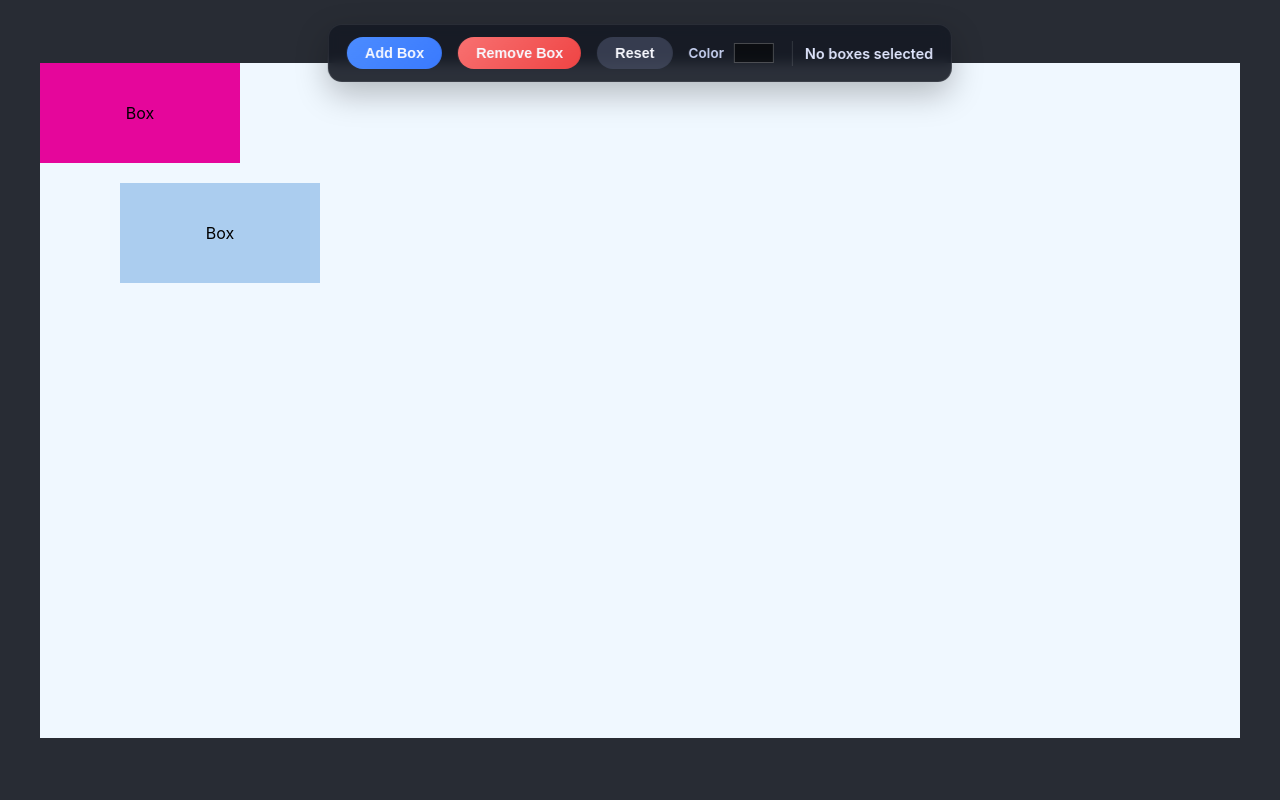
Test: App › should reset the canvas when clicking the reset button then the canvas have default box
Click the 1st button "Box" at (140, 112), box x1=40 y1=62 x2=240 y2=162
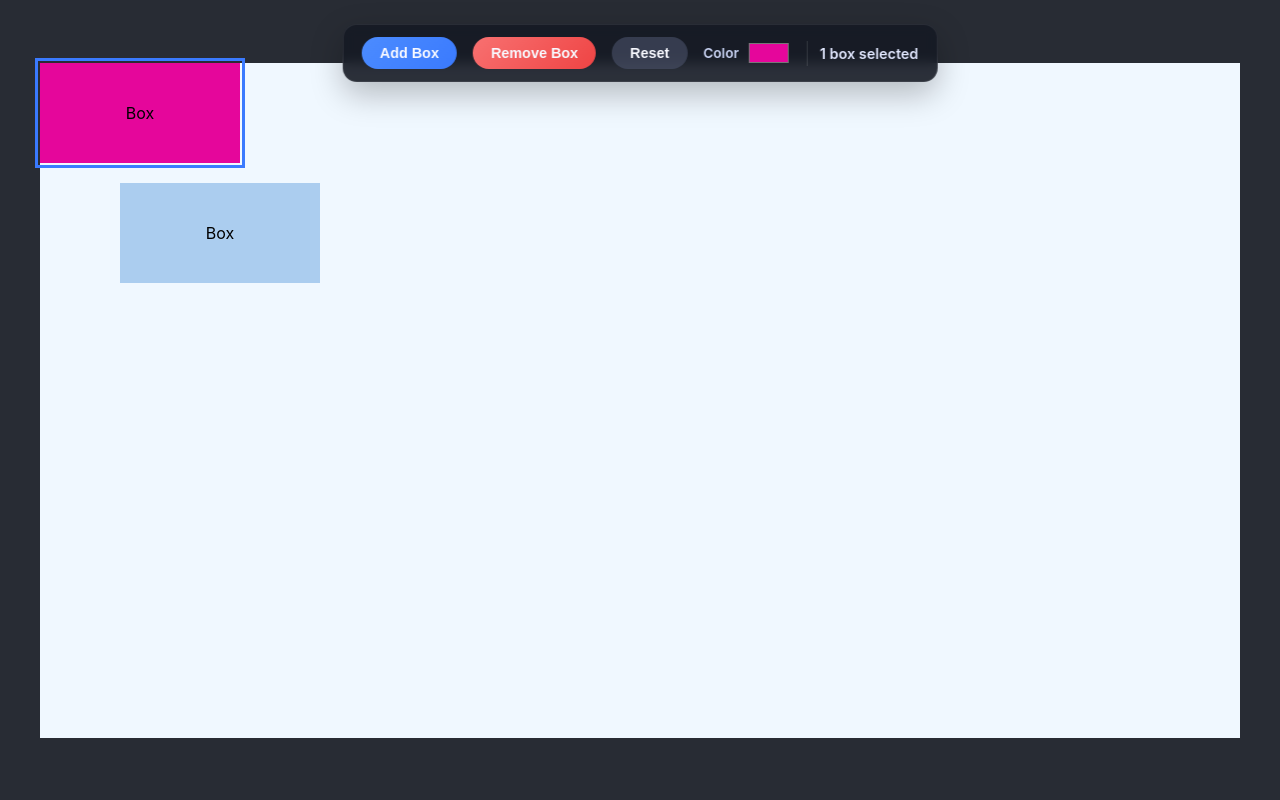
Expected: the text "Box" is shown 2 times, x1=126 y1=102 x2=154 y2=122; x1=206 y1=222 x2=234 y2=242
Click the button "Reset" at (650, 53), box x1=612 y1=37 x2=687 y2=69
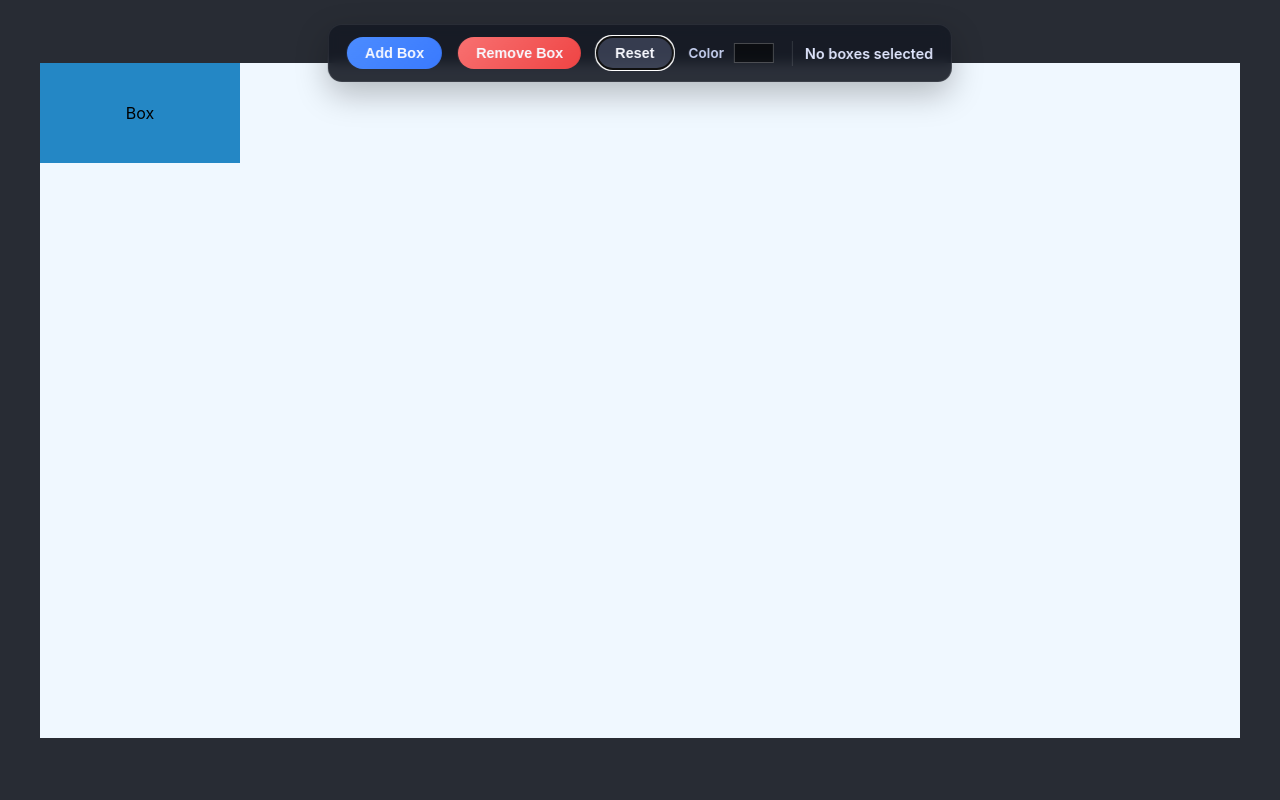
Now the text "Box" is shown once, box x1=126 y1=102 x2=154 y2=122
